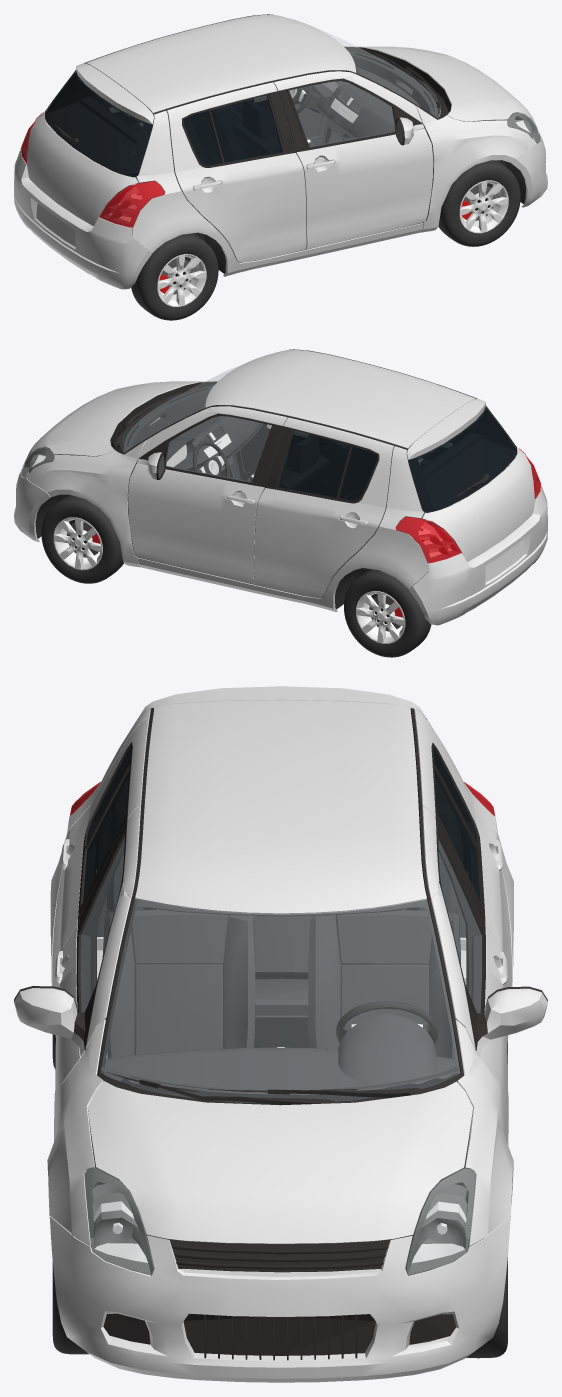
The model's file is SEDAN05.obj.
The picture shows the model from 3 angles, top to bottom: view 1: azimuth 30°, elevation 25°; view 2: azimuth 150°, elevation 25°; view 3: azimuth 270°, elevation 25°; orthographic projection. The views are drawn at different scales.
Visible parts, largest first — view 1: 05; view 2: 05; view 3: 05.
Boxes of the visible parts, x1,y1,x2,y2 form: 05: (14,14,547,320); 05: (14,349,547,657); 05: (14,686,547,1382).
Bounding box in the file's own units: 3.69 × 1.52 × 1.93.
